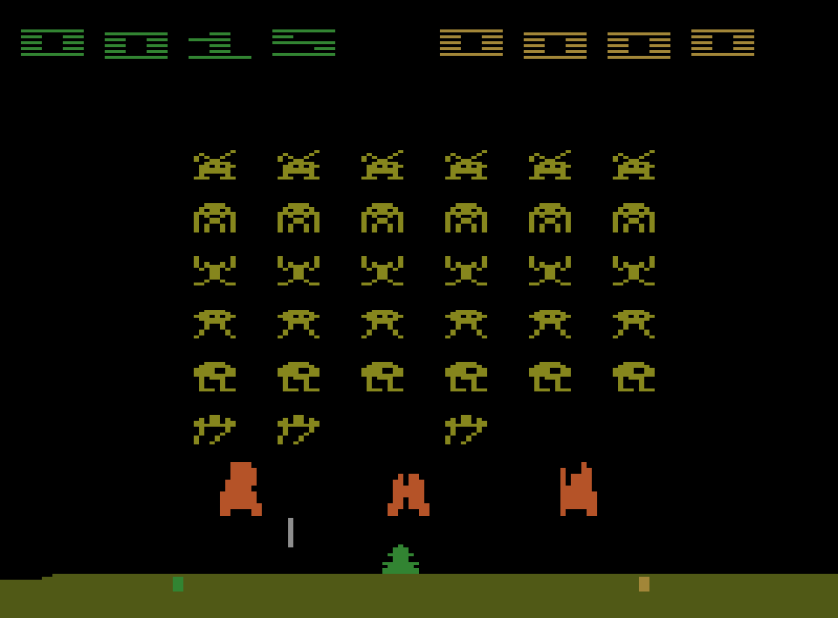bullet: (286, 515, 295, 548)
invader1: (192, 148, 239, 182), (359, 148, 406, 182), (527, 148, 573, 182), (611, 148, 657, 182), (276, 148, 322, 181), (444, 148, 490, 181)
invader2: (275, 200, 322, 235), (192, 201, 239, 235), (358, 201, 405, 235), (610, 200, 657, 234), (528, 201, 573, 235), (443, 202, 489, 234)
invader3: (526, 253, 574, 289), (275, 252, 321, 289), (191, 252, 238, 288), (359, 252, 406, 288), (443, 252, 490, 288), (609, 254, 657, 289)
invader4: (611, 306, 657, 343), (275, 307, 322, 342), (443, 306, 490, 341), (192, 307, 238, 342), (527, 306, 573, 341), (359, 307, 406, 341)
invader5: (360, 358, 406, 394), (191, 359, 238, 394), (611, 360, 657, 394), (527, 361, 574, 394), (443, 360, 489, 393), (276, 361, 322, 393)
invader6: (442, 412, 488, 447), (193, 411, 238, 446), (275, 413, 322, 446)
player: (380, 542, 420, 575)
